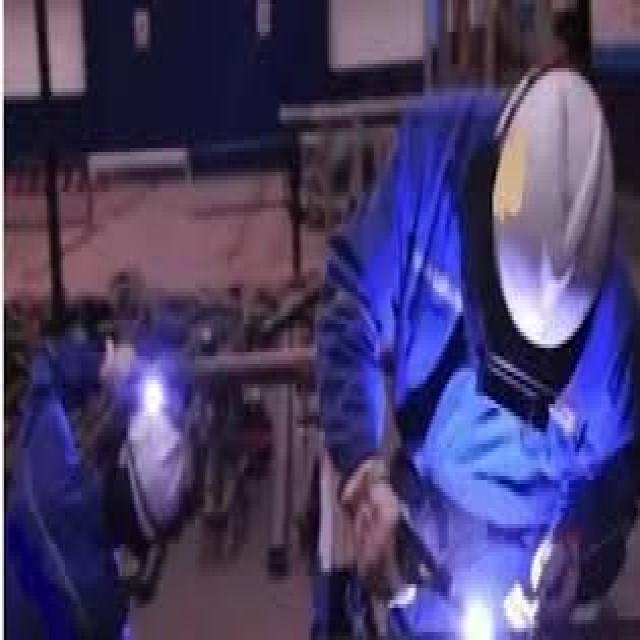welding: (460, 593, 496, 640), (141, 375, 167, 415)
